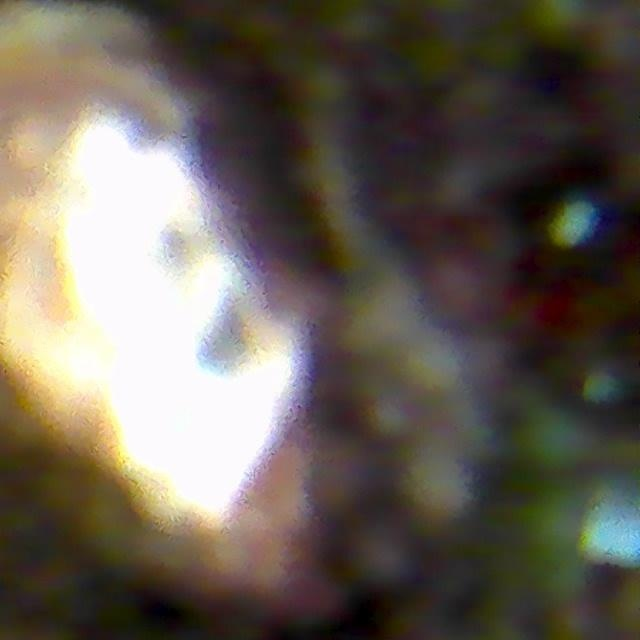SeaGrape: (521, 404, 594, 472), (347, 524, 417, 593), (404, 330, 474, 399), (295, 57, 359, 118), (529, 0, 592, 39)
